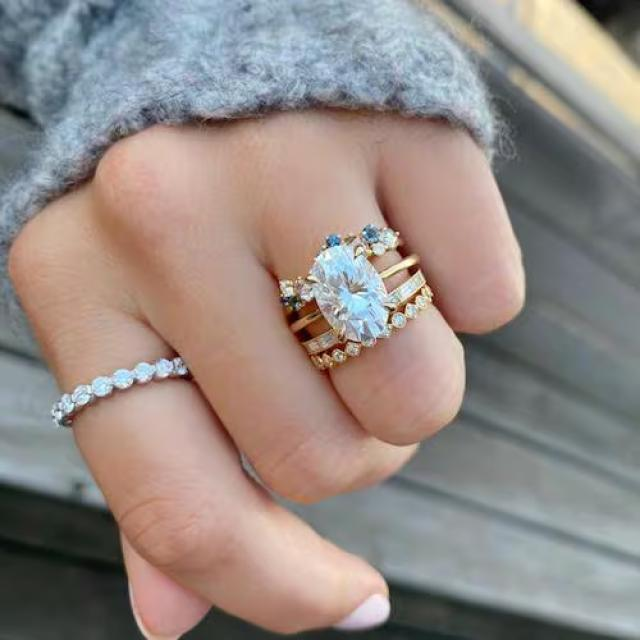Ring: (265, 227, 470, 371), (25, 347, 210, 435)
